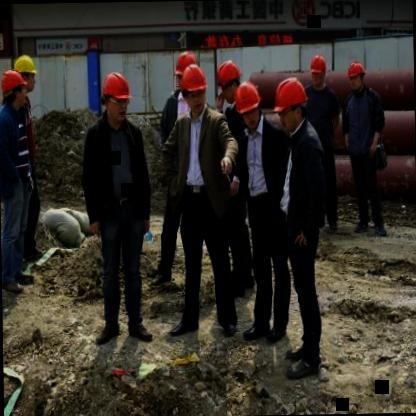helmet: (274, 76, 308, 132), (99, 69, 132, 126), (178, 63, 208, 113), (235, 81, 263, 130), (171, 46, 196, 91), (216, 60, 240, 105), (14, 52, 39, 92), (0, 69, 22, 107), (308, 52, 330, 90), (346, 59, 367, 93)
